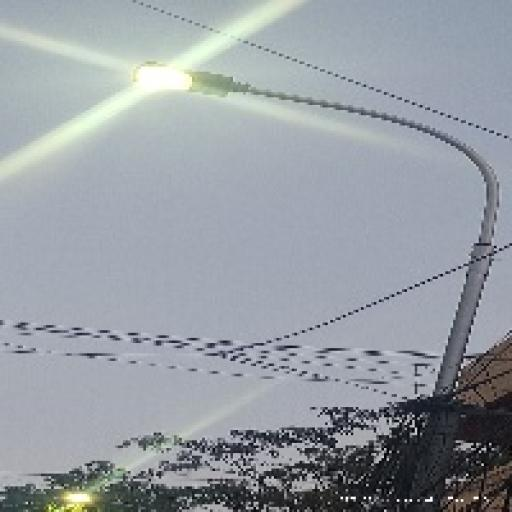Working: (118, 54, 244, 112), (52, 487, 96, 510)
